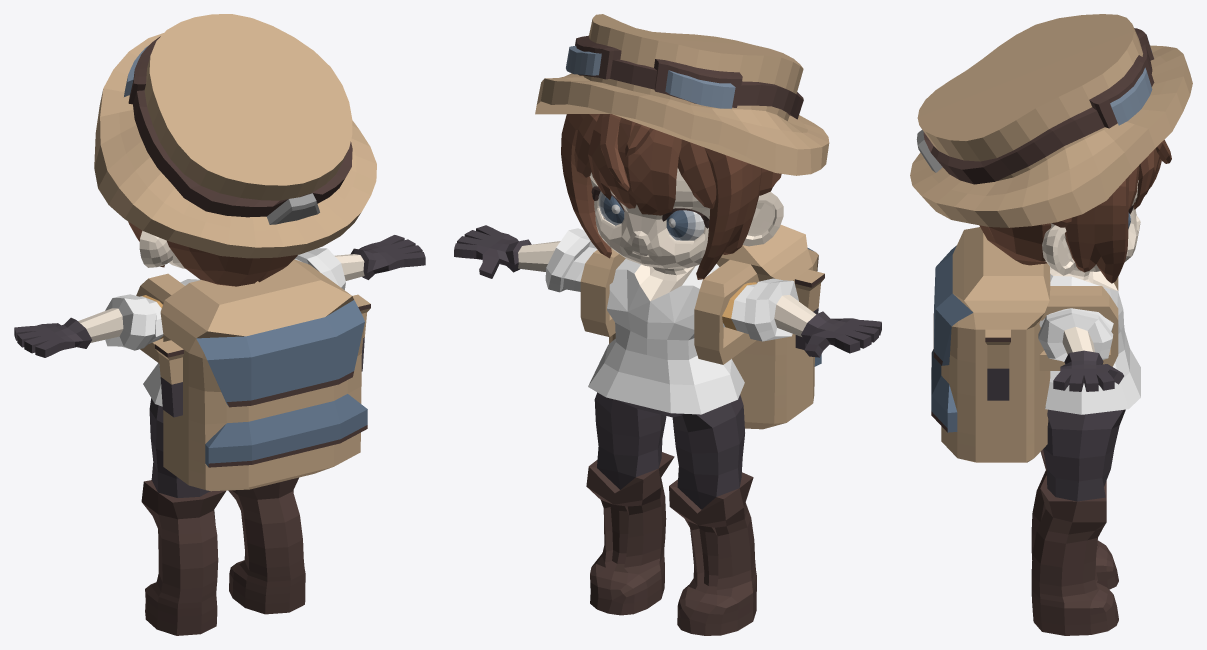
The model's file is aira_desert_full.fbx.
3 views of the same model, side by side, from view 1: azimuth 30°, elevation 25°; view 2: azimuth 150°, elevation 25°; view 3: azimuth 270°, elevation 25° (orthographic). The views are drawn at different scales.
Parts seen in each view (by area): view 1: hat, backpack, shirt, Cube, head; view 2: shirt, hat, backpack, Cube, head, Cube.006, eyes; view 3: hat, shirt, backpack, Cube, head.
Boxes of the visible parts, x1,y1,x2,y2 form: hat: [94, 14, 376, 258]; backpack: [136, 259, 370, 491]; shirt: [14, 235, 425, 635]; Cube: [128, 221, 297, 286]; head: [139, 231, 185, 268]; shirt: [454, 225, 881, 635]; hat: [535, 14, 829, 175]; backpack: [580, 225, 824, 429]; Cube: [561, 114, 781, 279]; head: [589, 168, 783, 268]; Cube.006: [600, 114, 653, 191]; eyes: [598, 191, 704, 240]; hat: [910, 14, 1192, 227]; shirt: [1031, 267, 1140, 635]; backpack: [931, 227, 1118, 462]; Cube: [979, 148, 1161, 283]; head: [1042, 180, 1140, 275].
Bounding box in the file's own units: 161 × 222 × 100.
1 material, 1 textured.
